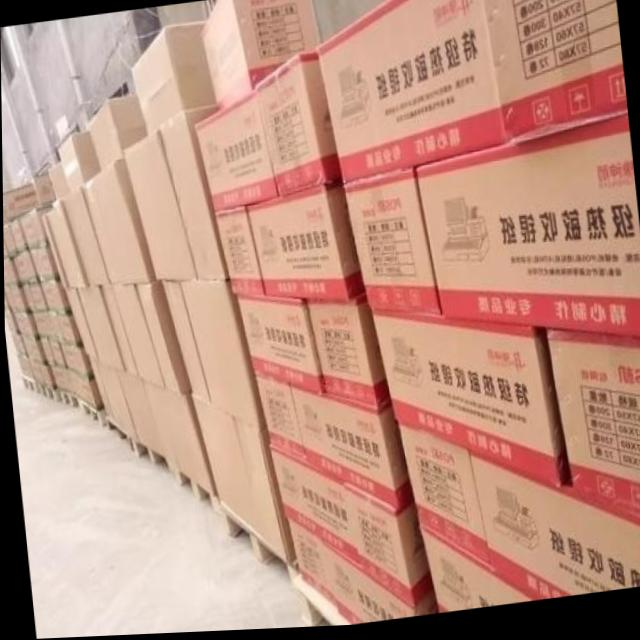box: (415, 120, 640, 344), (371, 313, 568, 494), (316, 0, 506, 187), (268, 445, 432, 611), (467, 457, 640, 605), (482, 0, 627, 152), (545, 332, 640, 521), (190, 395, 294, 565), (284, 519, 438, 627), (288, 388, 413, 517), (244, 181, 362, 303), (341, 172, 439, 318), (396, 424, 489, 574), (199, 0, 321, 114), (178, 280, 265, 433), (253, 53, 341, 200), (156, 109, 228, 281), (121, 129, 196, 281), (193, 85, 277, 213), (418, 531, 535, 616), (305, 295, 389, 411), (130, 22, 215, 136), (81, 158, 155, 286), (141, 382, 215, 500), (235, 295, 321, 396), (134, 282, 188, 396), (159, 280, 207, 405), (109, 285, 164, 391), (60, 187, 110, 287), (85, 96, 149, 171), (253, 378, 305, 468), (116, 371, 164, 463), (86, 354, 135, 444), (215, 208, 262, 298), (75, 284, 122, 370), (40, 200, 84, 290), (97, 285, 137, 379), (55, 131, 100, 193), (61, 289, 95, 360), (29, 309, 64, 369), (65, 367, 103, 411), (2, 182, 39, 220), (16, 353, 53, 387), (17, 209, 47, 250), (45, 311, 80, 346), (10, 333, 46, 364), (28, 246, 58, 283), (58, 344, 92, 376), (3, 217, 26, 261), (39, 282, 70, 312), (46, 162, 69, 202), (12, 250, 37, 285), (5, 313, 38, 338), (21, 283, 48, 313), (31, 174, 54, 206), (3, 285, 29, 313), (47, 364, 70, 394), (3, 259, 19, 287), (2, 205, 9, 227)
